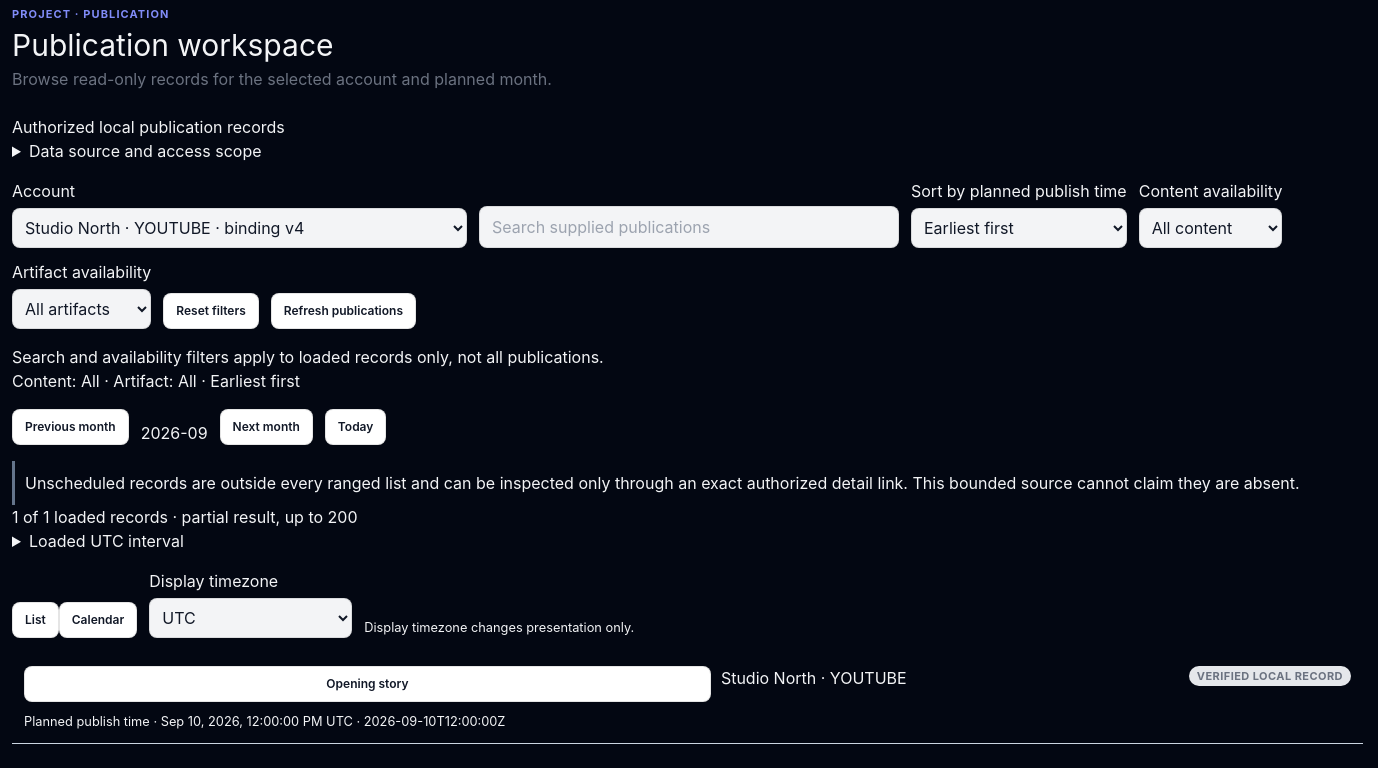
it: authorized Publication workspace › selects only backend-returned accounts and retires the prior exact-account list
Expected: the button "Opening story" is shown, [24, 666, 711, 702]
Select "b · Account name not provided · YOUTUBE · binding v9" in the dropdown labelled "Account" at (240, 228), box [12, 208, 467, 248]
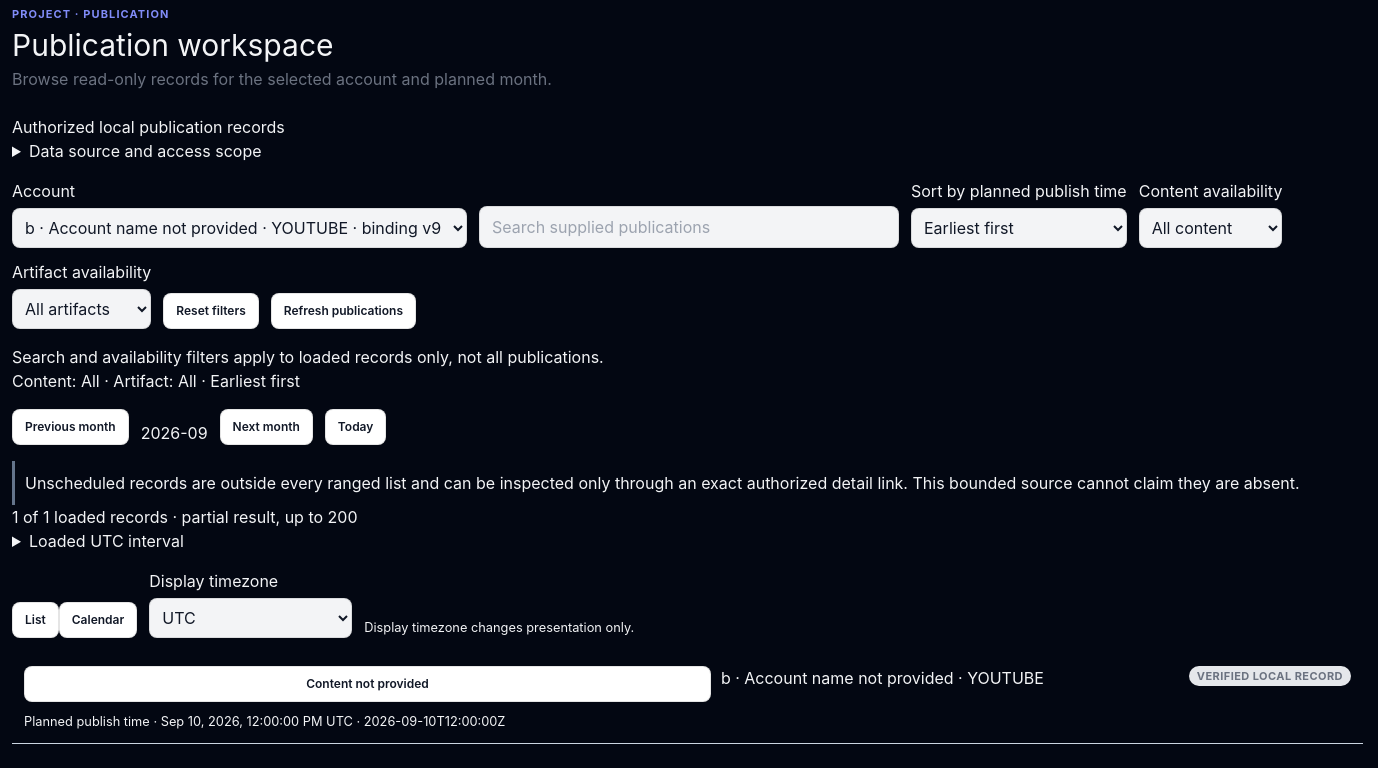
Now the button "Content not provided" is shown, box [24, 666, 711, 702]
